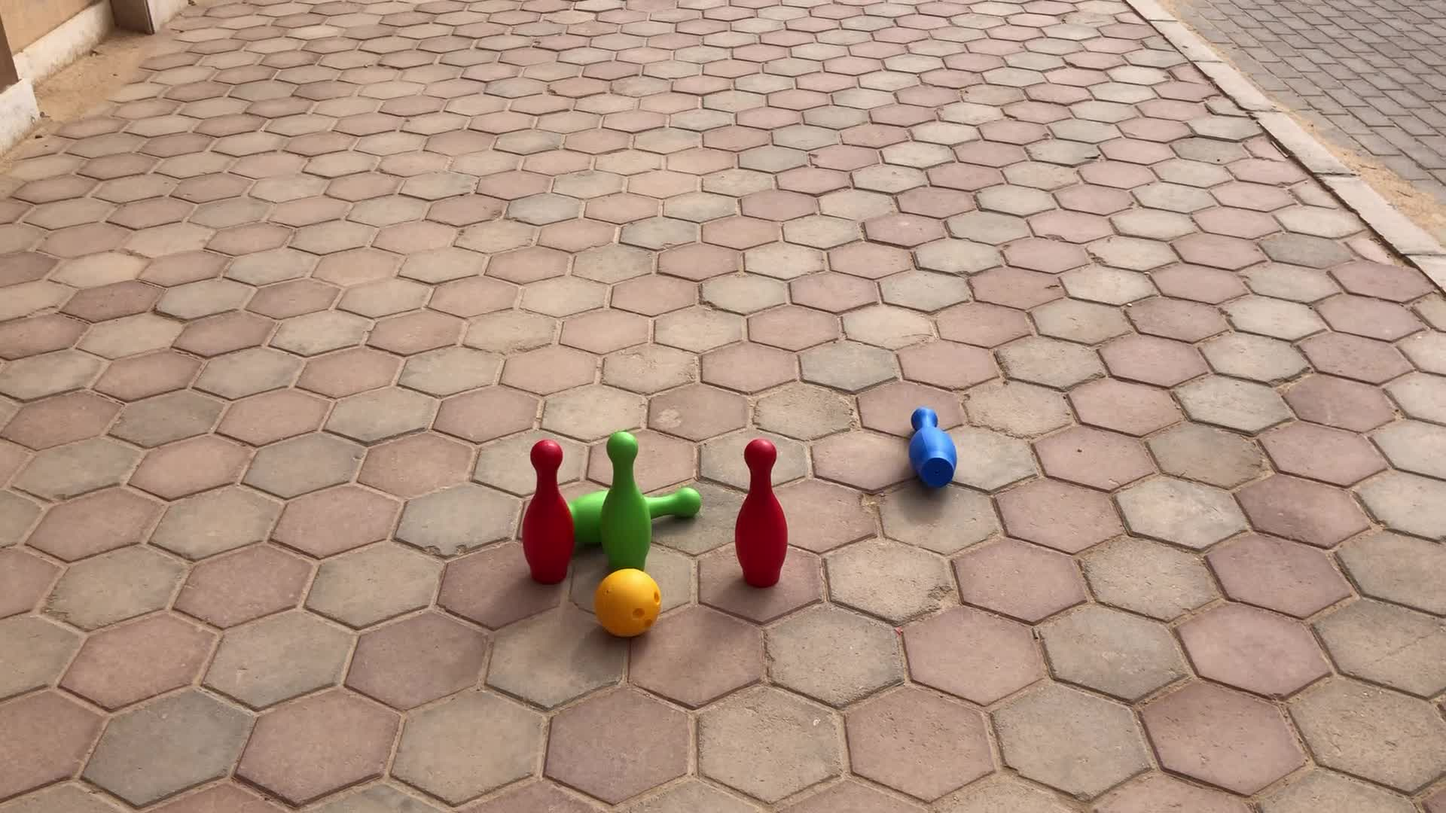pin: (735, 437, 787, 586), (523, 439, 573, 585), (602, 434, 652, 569), (907, 407, 956, 490), (572, 492, 606, 549)
